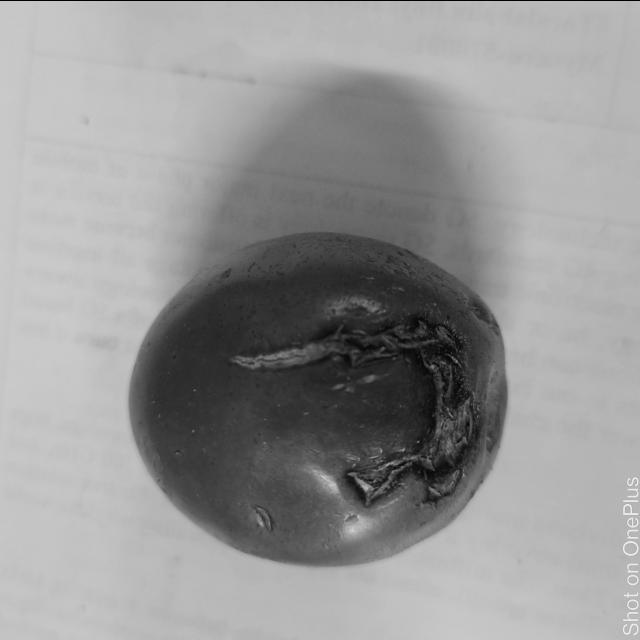tomato_cracking: (224, 296, 480, 529)
